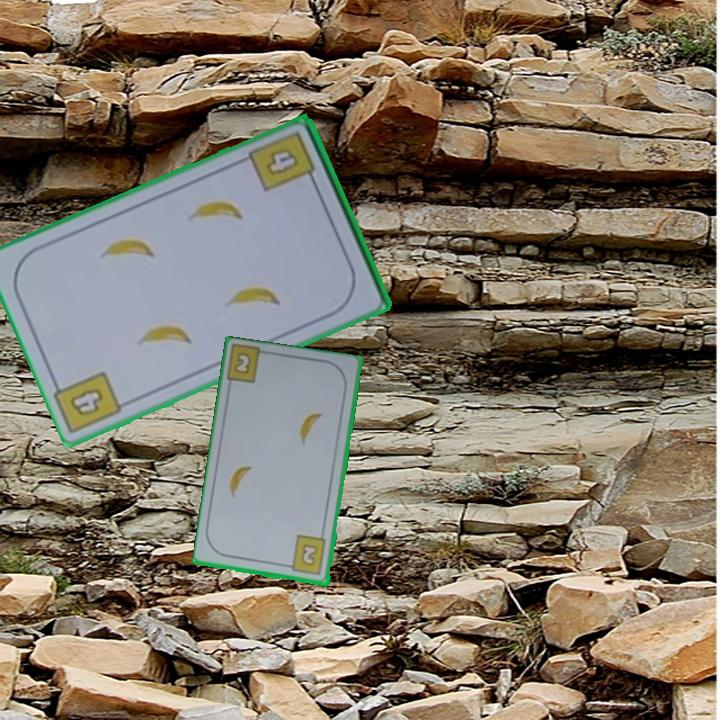2b: (283, 532, 329, 578), (231, 351, 253, 377)
4b: (246, 128, 320, 195), (65, 384, 106, 420)
